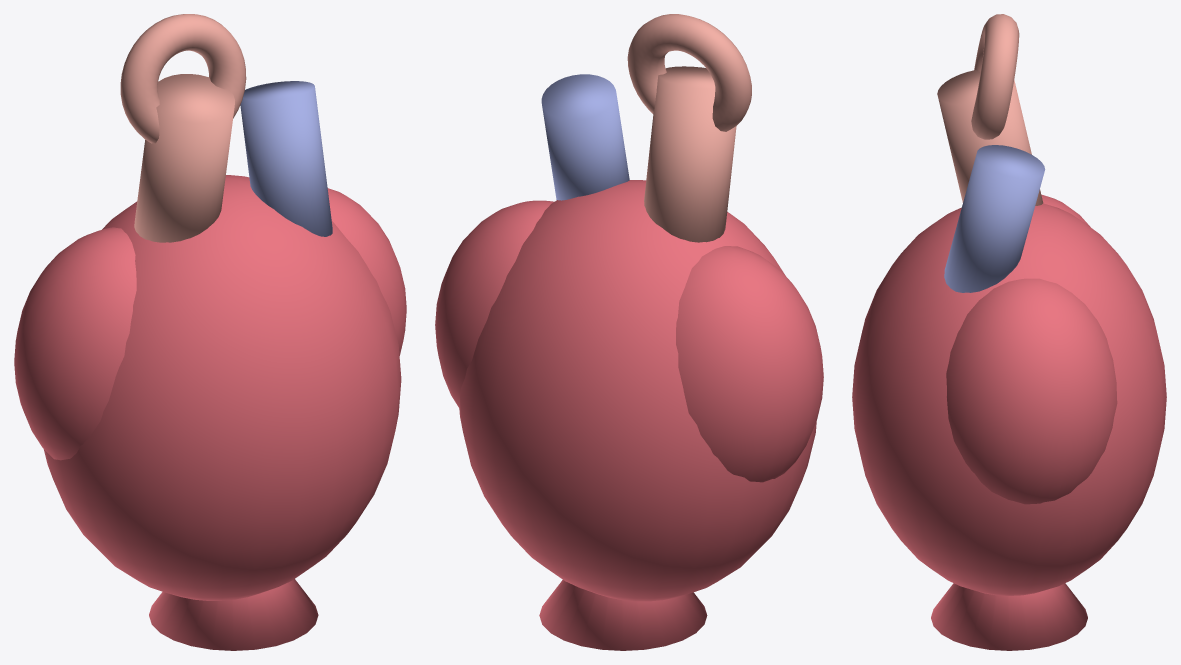
The model's file is heart_simplified.glb.
3 renders of one model, left to right at view 1: azimuth 30°, elevation 25°; view 2: azimuth 150°, elevation 25°; view 3: azimuth 270°, elevation 25°, orthographic. The views are drawn at different scales.
Visible parts, largest first — view 1: Sphere; view 2: Sphere; view 3: Sphere.
Part boxes in pixels (x1,y1,x2,y2): Sphere: [14, 14, 406, 650]; Sphere: [435, 14, 823, 650]; Sphere: [852, 14, 1166, 650].
Size of the model in its own units: 0.0874 by 0.14 by 0.0699.
